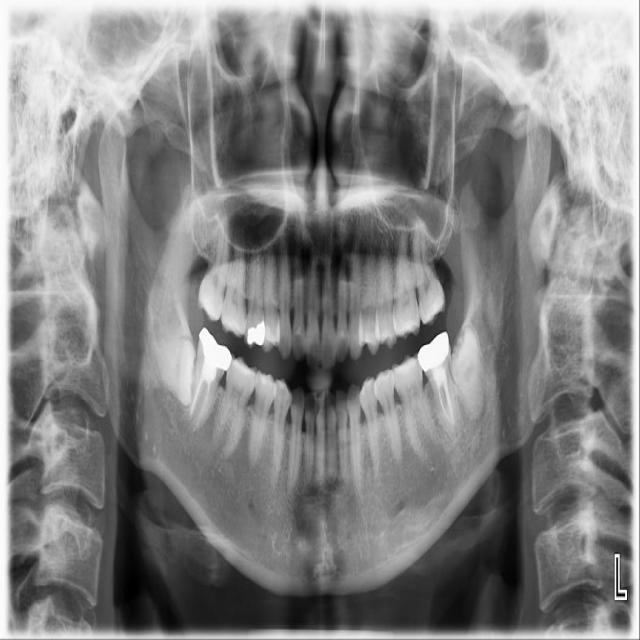52: (188, 326, 239, 374), (411, 329, 461, 375), (240, 300, 266, 349), (261, 305, 280, 352)
73: (187, 336, 228, 433), (421, 346, 461, 441), (614, 560, 620, 574)
BioHorizons Implant: (408, 211, 448, 328)
Biomet 3i Implant: (438, 324, 502, 422)
Blue Sky Bio Implant: (416, 330, 460, 443)
Caries: (193, 206, 237, 323)
Implant: (185, 326, 235, 435)
Keystone Dental Implant: (153, 338, 196, 406)
